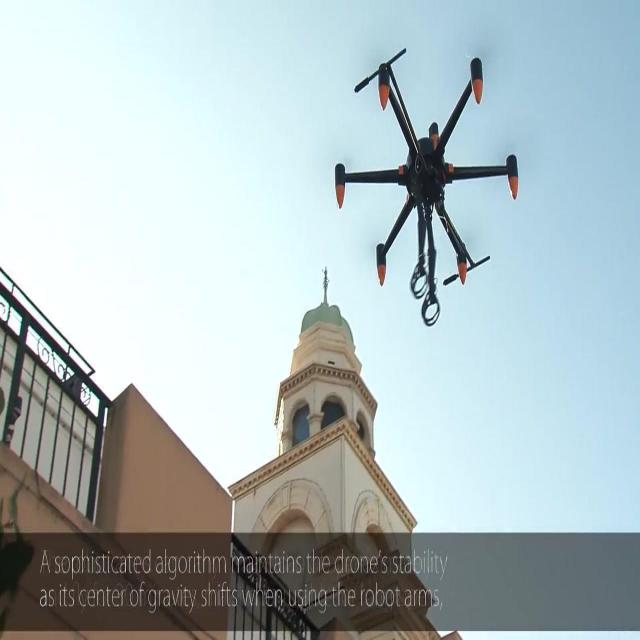UAV: (334, 47, 520, 328)
